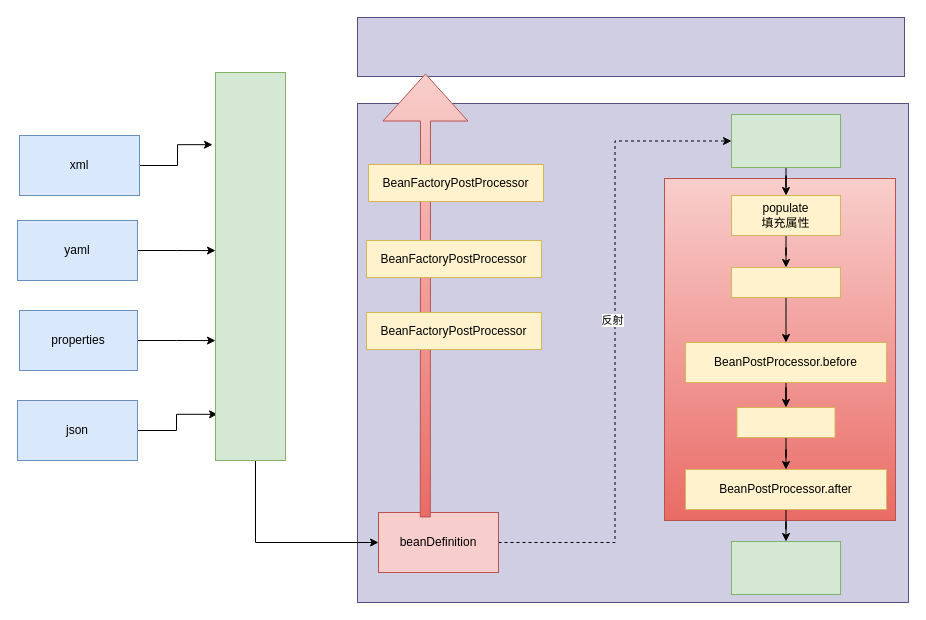
Some shapes in this 926 by 620 pixel diagram are drawn without their labels. Here are the shapes that lost their labels. From the top down, the centre of each, then its label:
At point 630,46: "BeanFactory".
At point 785,141: "实例化".
At point 250,266: "定义 接口规范".
At point 785,282: "设置Aware接口属性".
At point 785,422: "执行init-method方法".
At point 785,567: "完整对象".
